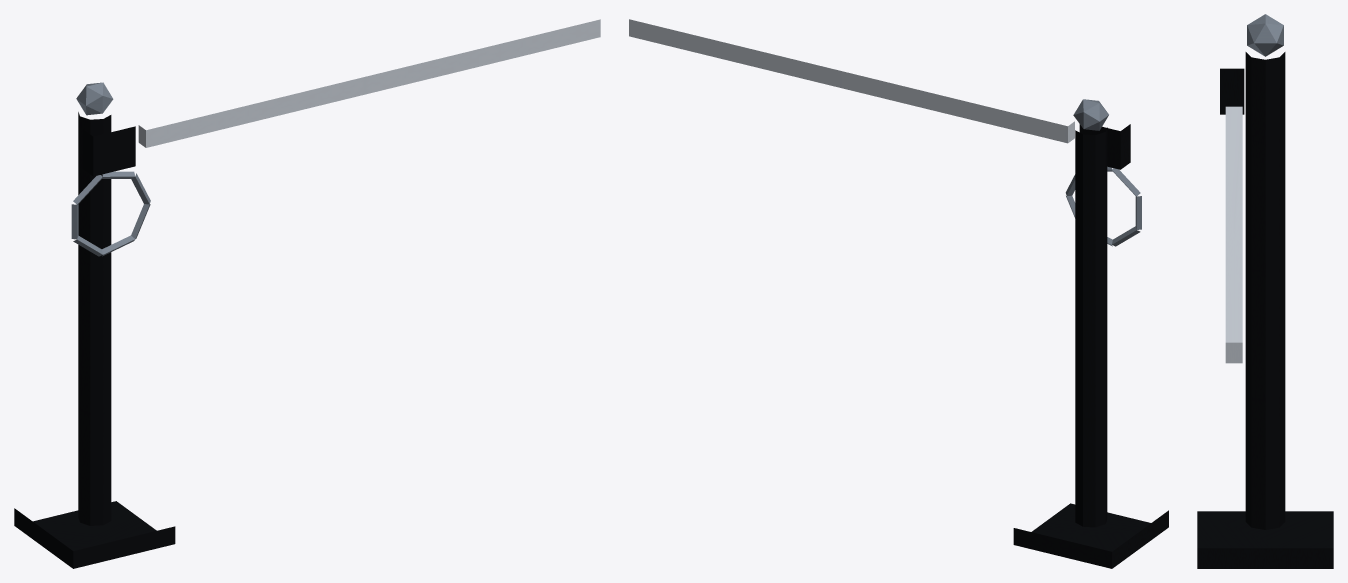
The model's file is v4_river_stanchion.glb.
The picture shows the model from 3 angles, left to right: view 1: azimuth 30°, elevation 25°; view 2: azimuth 150°, elevation 25°; view 3: azimuth 270°, elevation 25°; orthographic projection. The views are drawn at different scales.
Parts seen in each view (by area): view 1: Post, Belt, Cable_Ring, Post_Cap; view 2: Post, Belt, Cable_Ring, Post_Cap; view 3: Post, Belt, Post_Cap.
Part boxes in pixels (x1,y1,x2,y2): Post: (14,112,175,568); Belt: (138,19,600,147); Cable_Ring: (71,171,150,256); Post_Cap: (76,82,113,115); Post: (1013,124,1168,568); Belt: (629,19,1074,143); Cable_Ring: (1065,166,1141,246); Post_Cap: (1073,99,1108,130); Post: (1197,52,1333,568); Belt: (1225,106,1242,363); Post_Cap: (1247,14,1283,56).
Size of what is drawn, in the model's own units: 1.27 by 1.01 by 0.24.
Materials: 3 (3 with a texture image).
